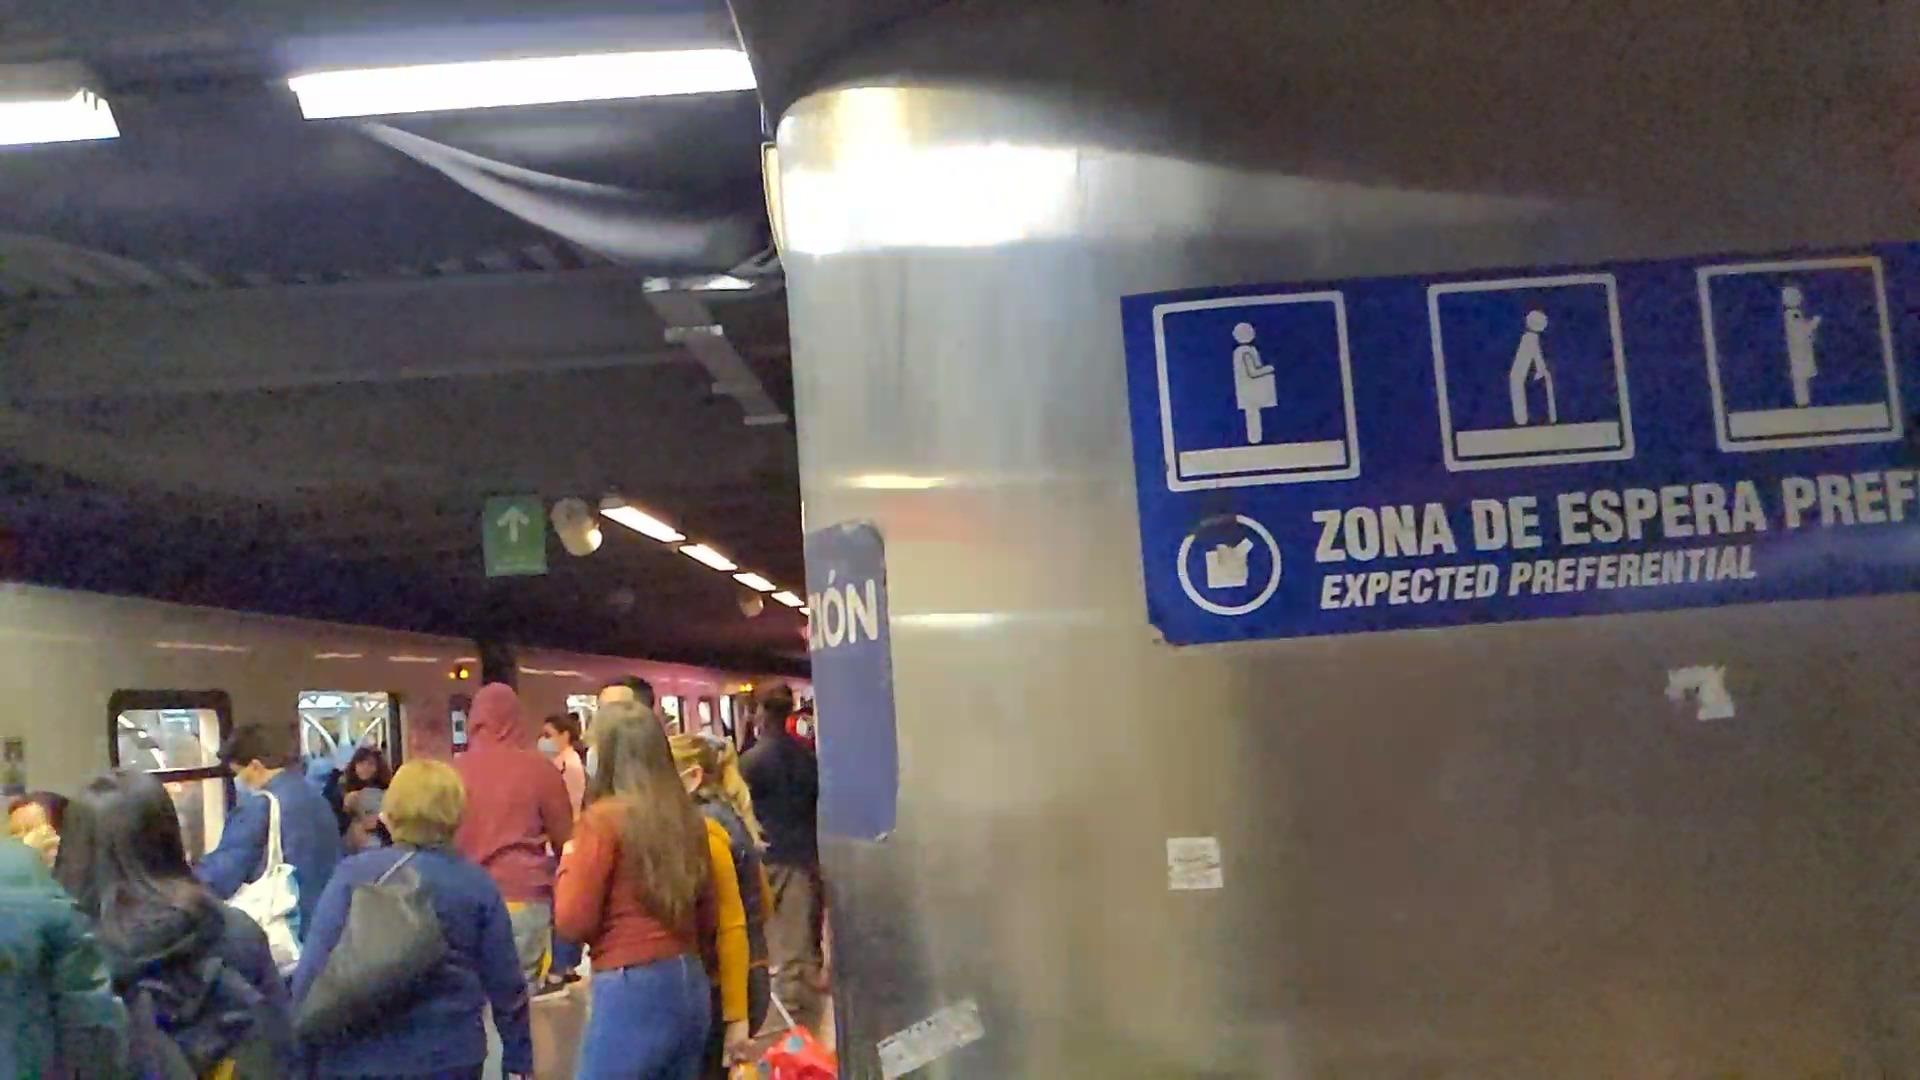up arrow: (495, 500, 531, 550)
